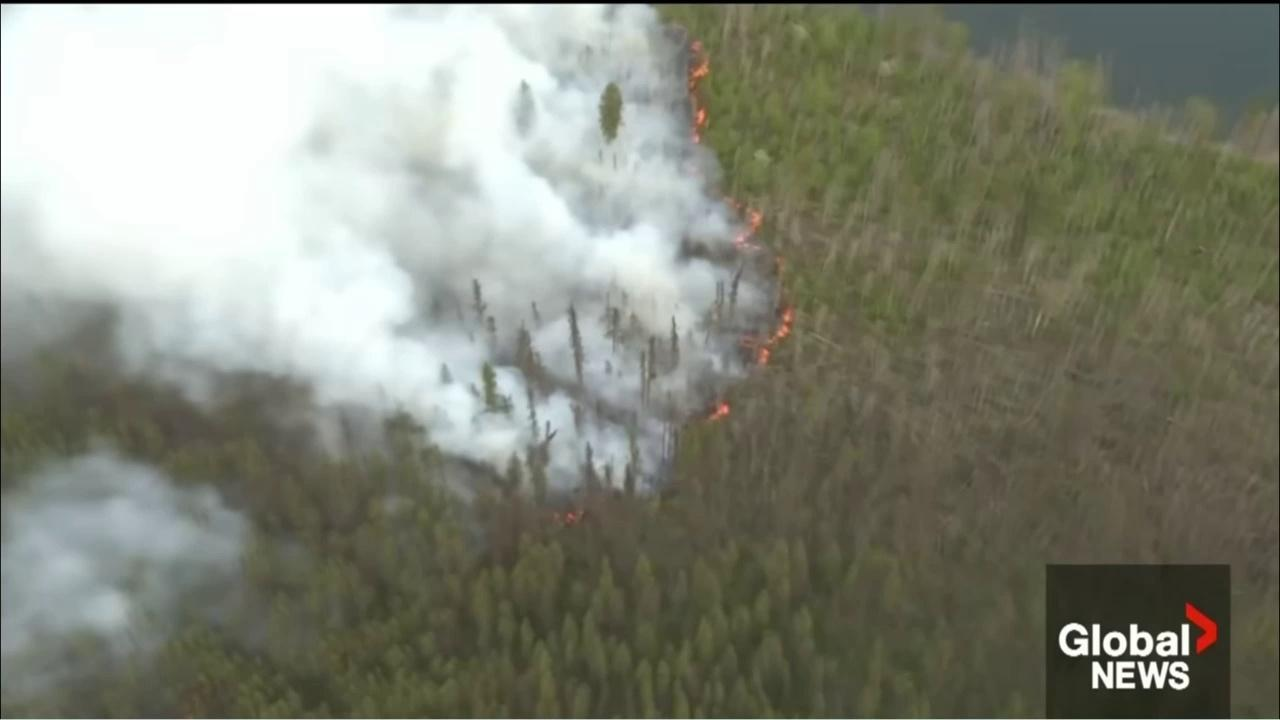fire: (738, 303, 796, 368), (720, 190, 768, 261), (685, 36, 714, 148), (705, 397, 735, 423), (549, 508, 587, 526)
smoke: (0, 4, 805, 537), (0, 432, 258, 720)
